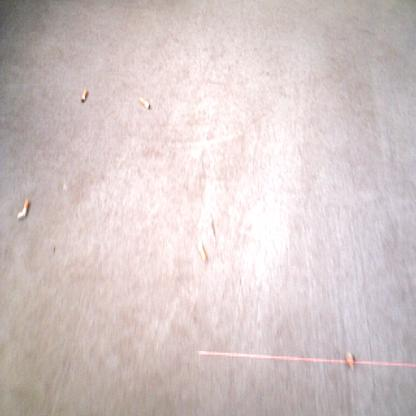dirty: (16, 198, 31, 220), (343, 351, 356, 373), (196, 240, 207, 263), (137, 96, 151, 109), (80, 89, 88, 103)
mark: (210, 218, 216, 238), (52, 245, 57, 255), (266, 70, 270, 79)
